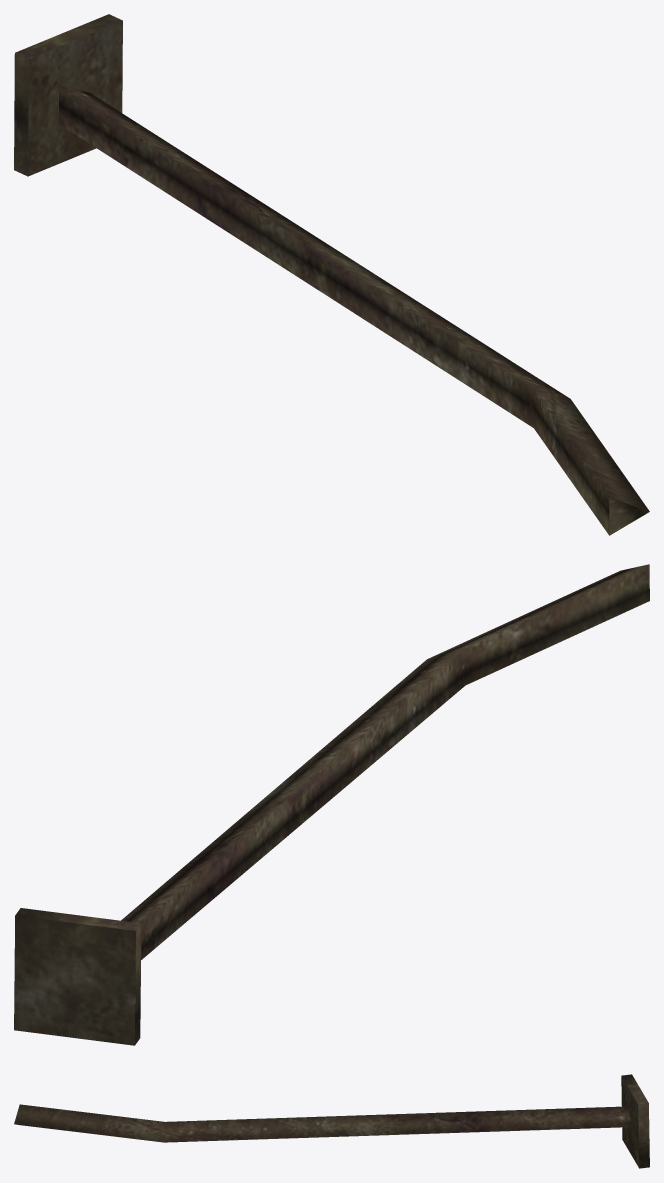
The model's file is TI_Nail_08.fbx.
3 views of the same model, one above another, from view 1: azimuth 30°, elevation 25°; view 2: azimuth 150°, elevation 25°; view 3: azimuth 270°, elevation 25° (orthographic). The views are drawn at different scales.
Visible parts, largest first — view 1: TI_Nail_08; view 2: TI_Nail_08; view 3: TI_Nail_08.
Part boxes in pixels (box(x1,y1,x2,y2)): TI_Nail_08: box(14, 14, 649, 535); TI_Nail_08: box(14, 564, 649, 1045); TI_Nail_08: box(14, 1074, 649, 1168).
Bounding box in the file's own units: 0.0559 × 0.05 × 0.4457.
